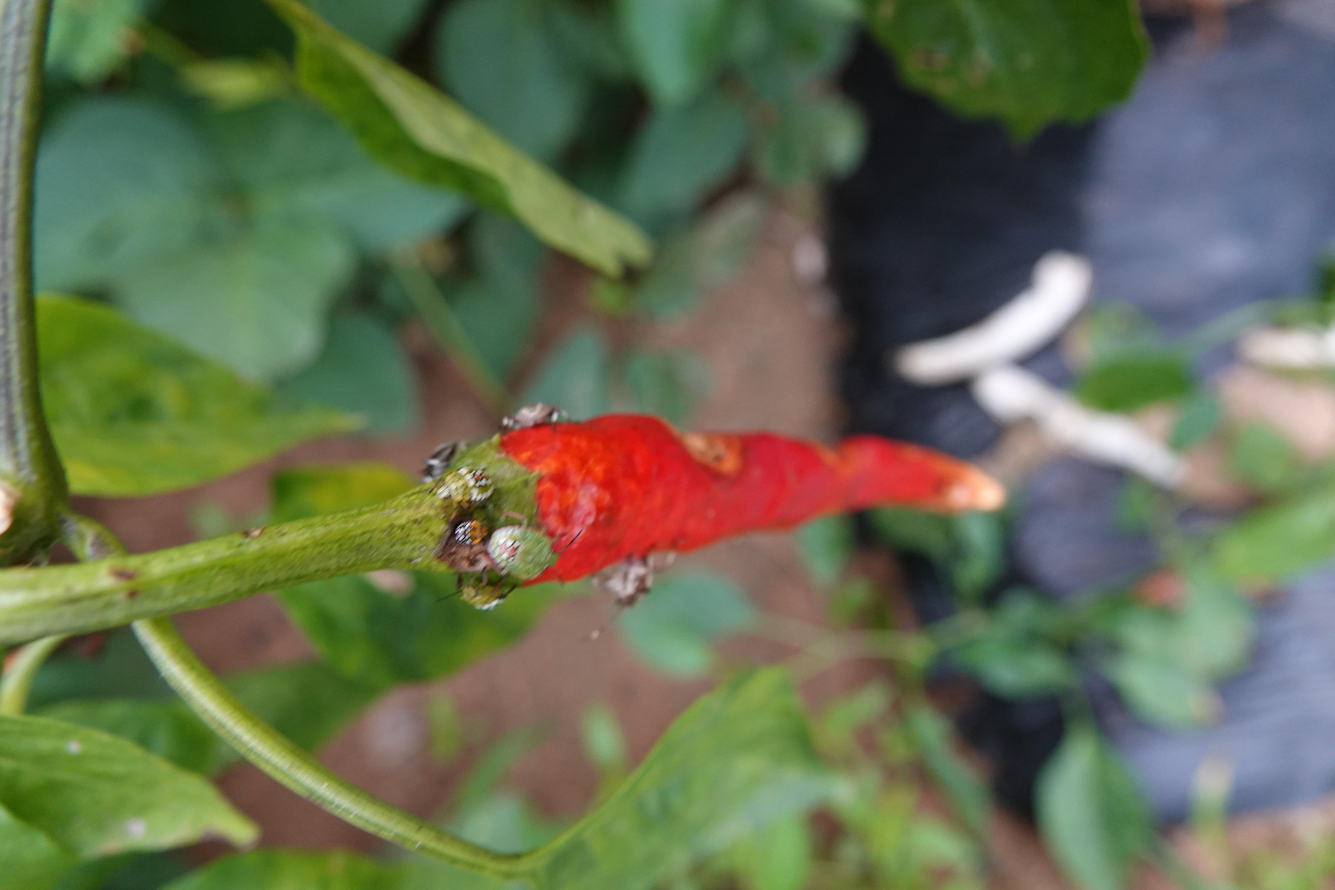Busuk Buah Antraknosa: (415, 401, 1009, 615)
